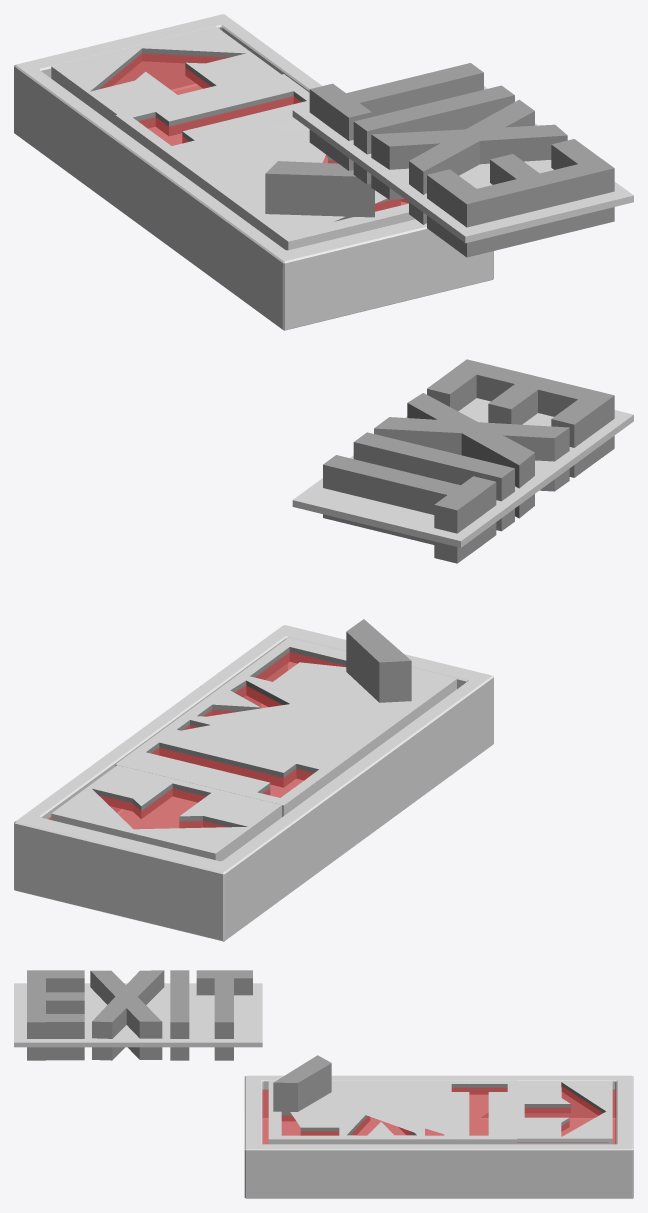
Rendered from ExitRIGHT.fbx.
The picture shows the model from 3 angles, top to bottom: view 1: azimuth 30°, elevation 25°; view 2: azimuth 150°, elevation 25°; view 3: azimuth 270°, elevation 25°; orthographic projection. The views are drawn at different scales.
Parts seen in each view (by area): view 1: polySurface28, polySurface21, polySurface40, polySurface2, pCube1, polySurface5, polySurface32, polySurface7, polySurface26, polySurface8, polySurface6, polySurface10 (+5 smaller); view 2: polySurface28, polySurface21, polySurface40, pCube1, polySurface26, polySurface8, polySurface7, polySurface6, polySurface5, polySurface32, polySurface2, polySurface9 (+6 smaller); view 3: polySurface28, polySurface21, polySurface40, polySurface10, polySurface26, polySurface5, polySurface32, polySurface6, polySurface16, polySurface11, pCube1, polySurface7 (+10 smaller).
Part boxes in pixels (left/top/right/bottom): polySurface28: left=14, top=14, right=493, bottom=330; polySurface21: left=115, top=74, right=415, bottom=250; polySurface40: left=51, top=26, right=281, bottom=124; polySurface2: left=453, top=158, right=614, bottom=257; pCube1: left=292, top=86, right=633, bottom=243; polySurface5: left=371, top=124, right=567, bottom=199; polySurface32: left=265, top=161, right=374, bottom=221; polySurface7: left=353, top=85, right=514, bottom=184; polySurface26: left=98, top=53, right=408, bottom=211; polySurface8: left=323, top=63, right=483, bottom=161; polySurface6: left=409, top=99, right=534, bottom=224; polySurface10: left=294, top=87, right=633, bottom=242; polySurface28: left=14, top=625, right=493, bottom=941; polySurface21: left=115, top=638, right=456, bottom=816; polySurface40: left=51, top=765, right=281, bottom=861; pCube1: left=292, top=398, right=633, bottom=547; polySurface26: left=99, top=652, right=346, bottom=829; polySurface8: left=323, top=455, right=483, bottom=553; polySurface7: left=353, top=432, right=514, bottom=531; polySurface6: left=374, top=417, right=569, bottom=491; polySurface5: left=407, top=393, right=534, bottom=518; polySurface32: left=346, top=619, right=411, bottom=702; polySurface2: left=454, top=359, right=614, bottom=457; polySurface9: left=434, top=476, right=496, bottom=563; polySurface28: left=244, top=1075, right=633, bottom=1198; polySurface21: left=268, top=1080, right=517, bottom=1144; polySurface40: left=517, top=1081, right=612, bottom=1144; polySurface10: left=14, top=983, right=262, bottom=1047; polySurface26: left=281, top=1086, right=608, bottom=1142; polySurface5: left=92, top=970, right=164, bottom=1060; polySurface32: left=273, top=1055, right=331, bottom=1120; polySurface6: left=90, top=970, right=162, bottom=1059; polySurface16: left=18, top=984, right=262, bottom=1042; polySurface11: left=14, top=983, right=262, bottom=1042; pCube1: left=14, top=983, right=262, bottom=1047; polySurface7: left=170, top=970, right=189, bottom=1060.
Bounding box in the file's own units: 4.15 × 4.33 × 14.66.
